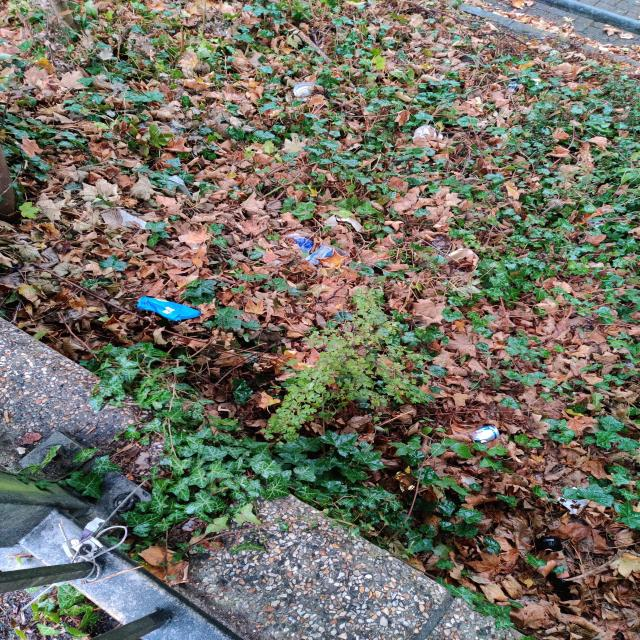litter: (137, 233, 586, 512)
